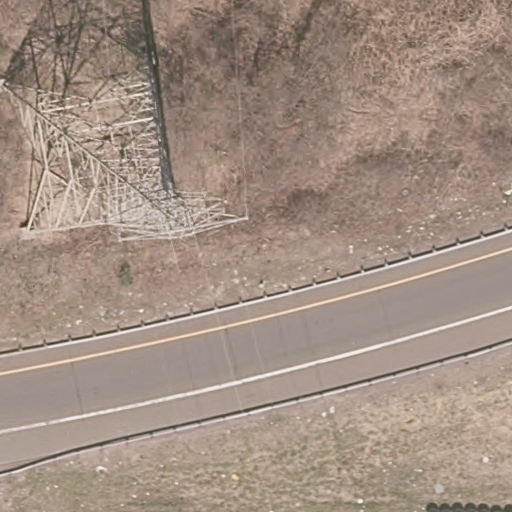TT: (3, 76, 250, 249)
